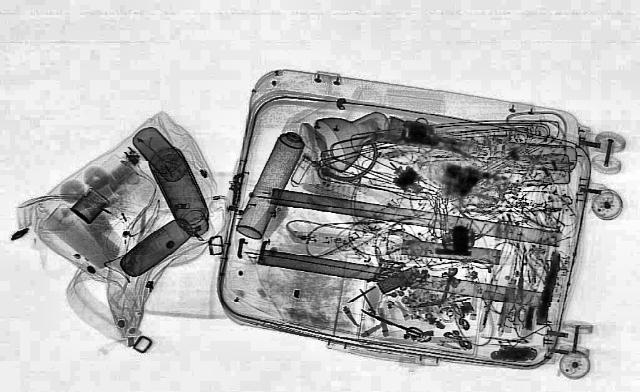Scissors: (356, 306, 426, 338)
